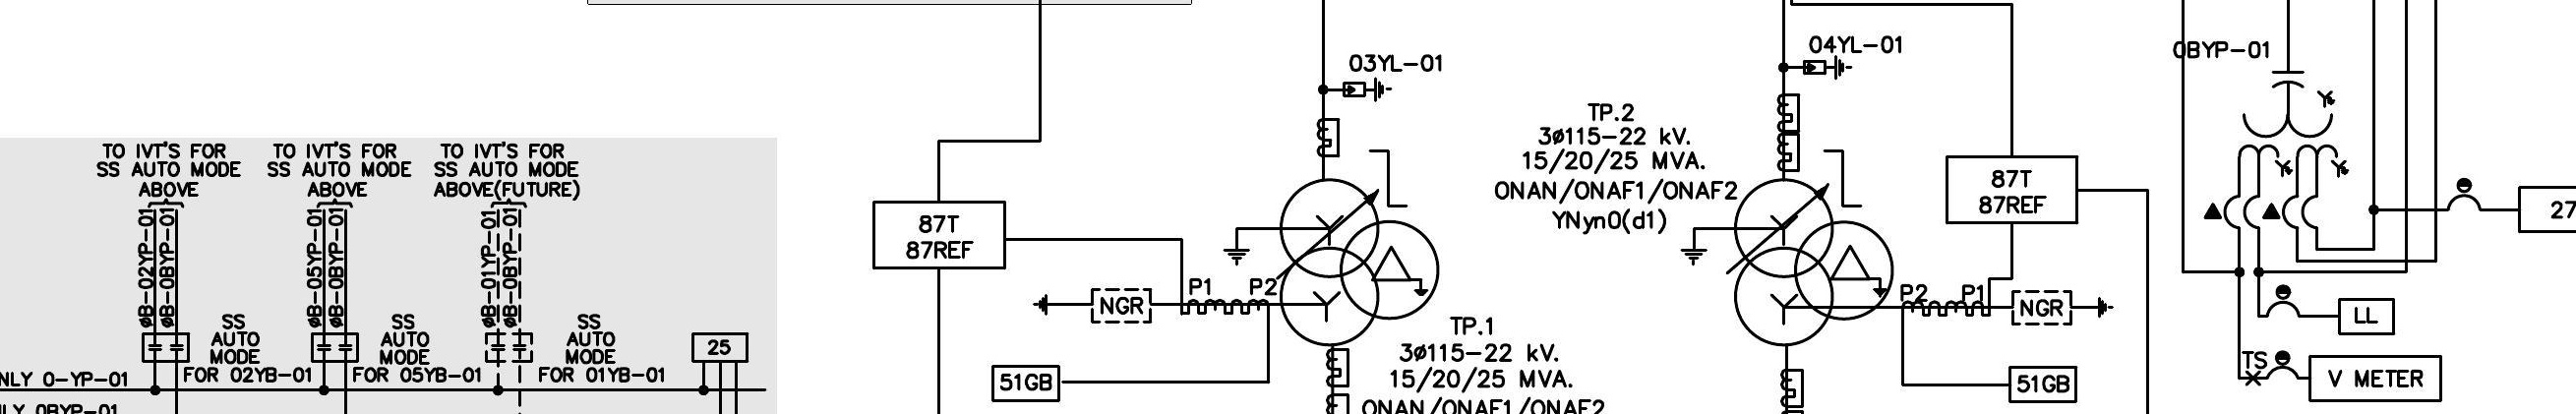11522_tx_ynyn0d1: (1279, 177, 1441, 348), (1733, 177, 1895, 348)
115_cvt_3p: (2202, 70, 2350, 231)
115_la: (1802, 54, 1853, 81), (1342, 77, 1393, 102)
LL: (2337, 297, 2396, 336)
NGR_future: (1033, 287, 1153, 325), (2010, 290, 2115, 326)
v_m_digital: (2307, 354, 2443, 403)
